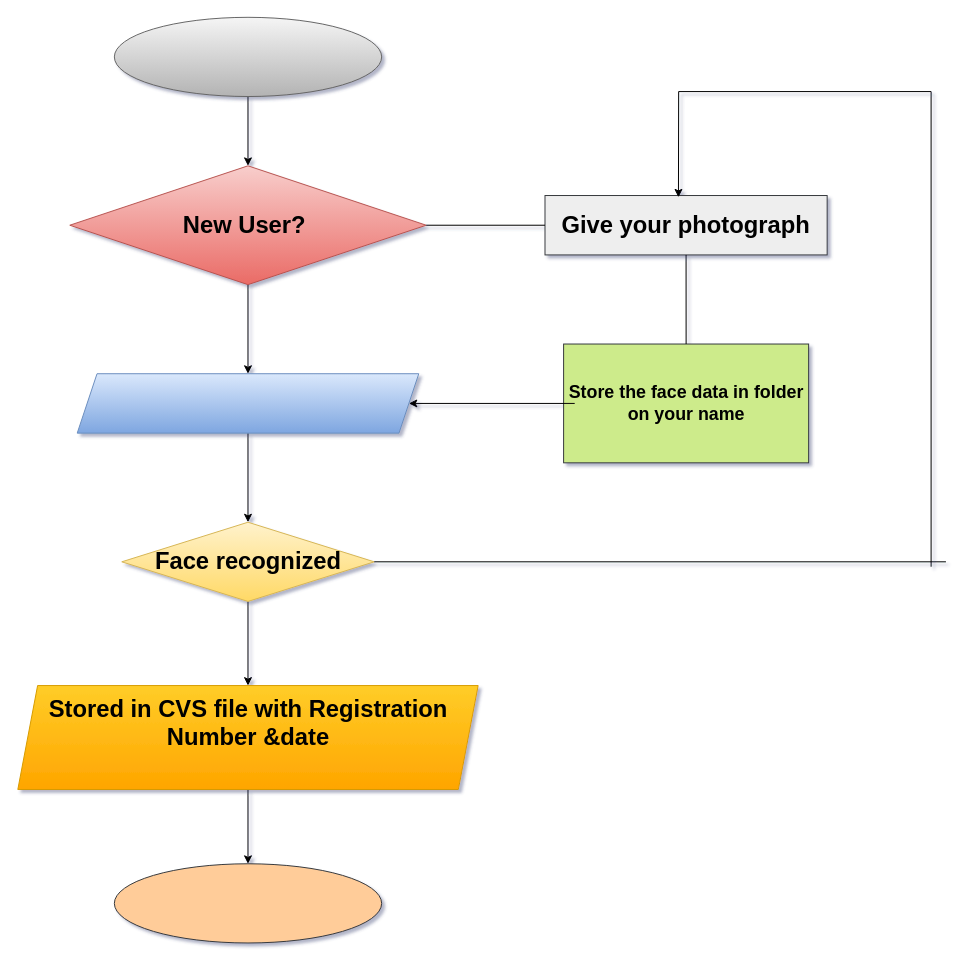
Some shapes in this 970 by 966 pixel diagram are drawn without their labels. The shapes that lost their labels are listed below. From the top down, each one's centre as x and y in pixels, then its label:
(247,56): Start
(247,403): Recognize the Face
(247,903): End
